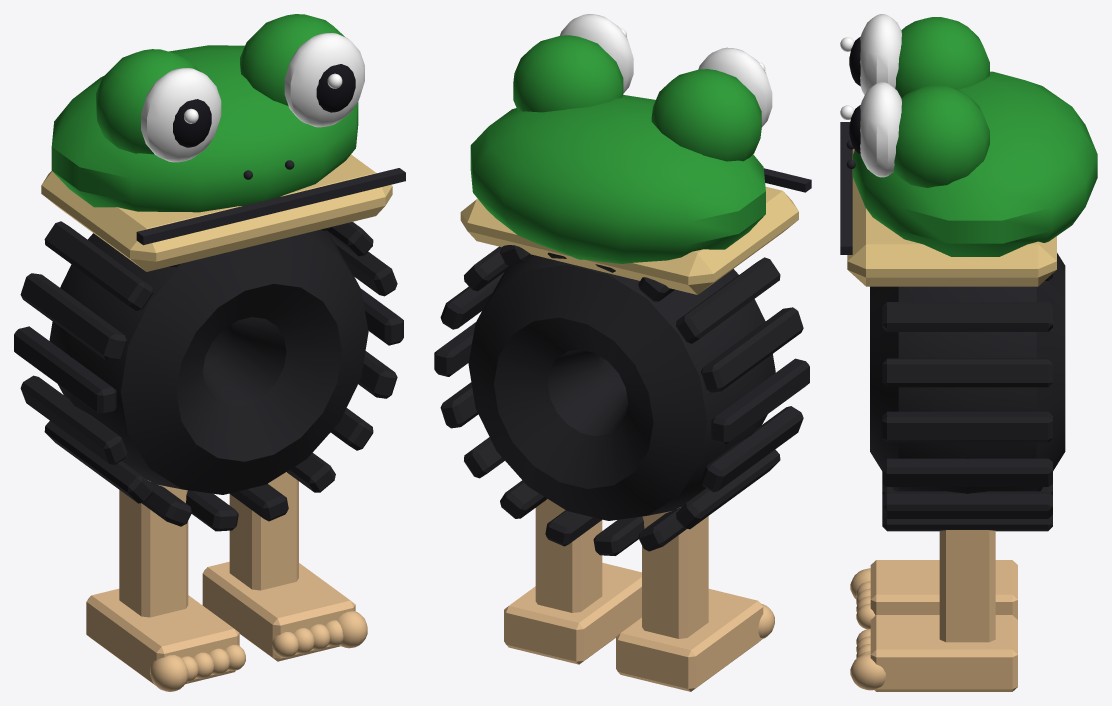
The model's file is Ambalabu.fbx.
The picture shows the model from 3 angles, left to right: view 1: azimuth 30°, elevation 25°; view 2: azimuth 150°, elevation 25°; view 3: azimuth 270°, elevation 25°; orthographic projection. The views are drawn at different scales.
Visible parts, largest first — view 1: Ambalabu_Pneu, Ambalabu_Cabeca, Ambalabu_Labio, Ambalabu_Pe_D, Ambalabu_Pe_E, Ambalabu_Perna_E, Ambalabu_Perna_D, Ambalabu_Palpebra, Ambalabu_Olho_E, Ambalabu_Olho_D, Ambalabu_Palpebra_2, Ambalabu_Boca (+18 smaller); view 2: Ambalabu_Pneu, Ambalabu_Cabeca, Ambalabu_Pe_E, Ambalabu_Labio, Ambalabu_Palpebra, Ambalabu_Pe_D, Ambalabu_Palpebra_2, Ambalabu_Perna_E, Ambalabu_Perna_D, Ambalabu_Cravo_Pneu_9, Ambalabu_Cravo_Pneu_10, Ambalabu_Cravo_Pneu_8 (+14 smaller); view 3: Ambalabu_Cabeca, Ambalabu_Pneu, Ambalabu_Pe_D, Ambalabu_Labio, Ambalabu_Palpebra_2, Ambalabu_Perna_D, Ambalabu_Palpebra, Ambalabu_Cravo_Pneu, Ambalabu_Cravo_Pneu_3, Ambalabu_Cravo_Pneu_2, Ambalabu_Pe_E, Ambalabu_Cravo_Pneu_18 (+8 smaller).
Part boxes in pixels (<box>): Ambalabu_Pneu: <box>49,229,368,494</box>; Ambalabu_Cabeca: <box>51,45,358,212</box>; Ambalabu_Labio: <box>41,154,392,271</box>; Ambalabu_Pe_D: <box>202,561,355,661</box>; Ambalabu_Pe_E: <box>86,588,239,685</box>; Ambalabu_Perna_E: <box>119,480,188,617</box>; Ambalabu_Perna_D: <box>229,472,298,590</box>; Ambalabu_Palpebra: <box>96,49,200,154</box>; Ambalabu_Olho_E: <box>141,68,221,162</box>; Ambalabu_Olho_D: <box>284,33,364,127</box>; Ambalabu_Palpebra_2: <box>240,14,344,105</box>; Ambalabu_Boca: <box>136,168,405,245</box>; Ambalabu_Pneu: <box>468,255,775,520</box>; Ambalabu_Cabeca: <box>470,95,765,263</box>; Ambalabu_Pe_E: <box>616,589,763,691</box>; Ambalabu_Labio: <box>460,186,798,294</box>; Ambalabu_Palpebra: <box>651,69,761,161</box>; Ambalabu_Pe_D: <box>504,562,641,664</box>; Ambalabu_Palpebra_2: <box>513,35,623,112</box>; Ambalabu_Perna_E: <box>642,507,708,638</box>; Ambalabu_Perna_D: <box>535,499,602,612</box>; Ambalabu_Cravo_Pneu_9: <box>701,307,803,392</box>; Ambalabu_Cravo_Pneu_10: <box>711,358,809,444</box>; Ambalabu_Cravo_Pneu_8: <box>676,257,780,343</box>; Ambalabu_Cabeca: <box>853,71,1097,256</box>; Ambalabu_Pneu: <box>870,253,1065,493</box>; Ambalabu_Pe_D: <box>870,615,1017,691</box>; Ambalabu_Labio: <box>847,149,1056,286</box>; Ambalabu_Palpebra_2: <box>893,85,989,187</box>; Ambalabu_Perna_D: <box>939,530,995,642</box>; Ambalabu_Palpebra: <box>895,17,989,98</box>; Ambalabu_Cravo_Pneu: <box>882,411,1052,442</box>; Ambalabu_Cravo_Pneu_3: <box>882,302,1052,331</box>; Ambalabu_Cravo_Pneu_2: <box>882,358,1052,387</box>; Ambalabu_Pe_E: <box>870,560,1017,619</box>; Ambalabu_Cravo_Pneu_18: <box>882,458,1052,486</box>.
Size of the model in its own units: 62.16 by 119 by 46.44.
